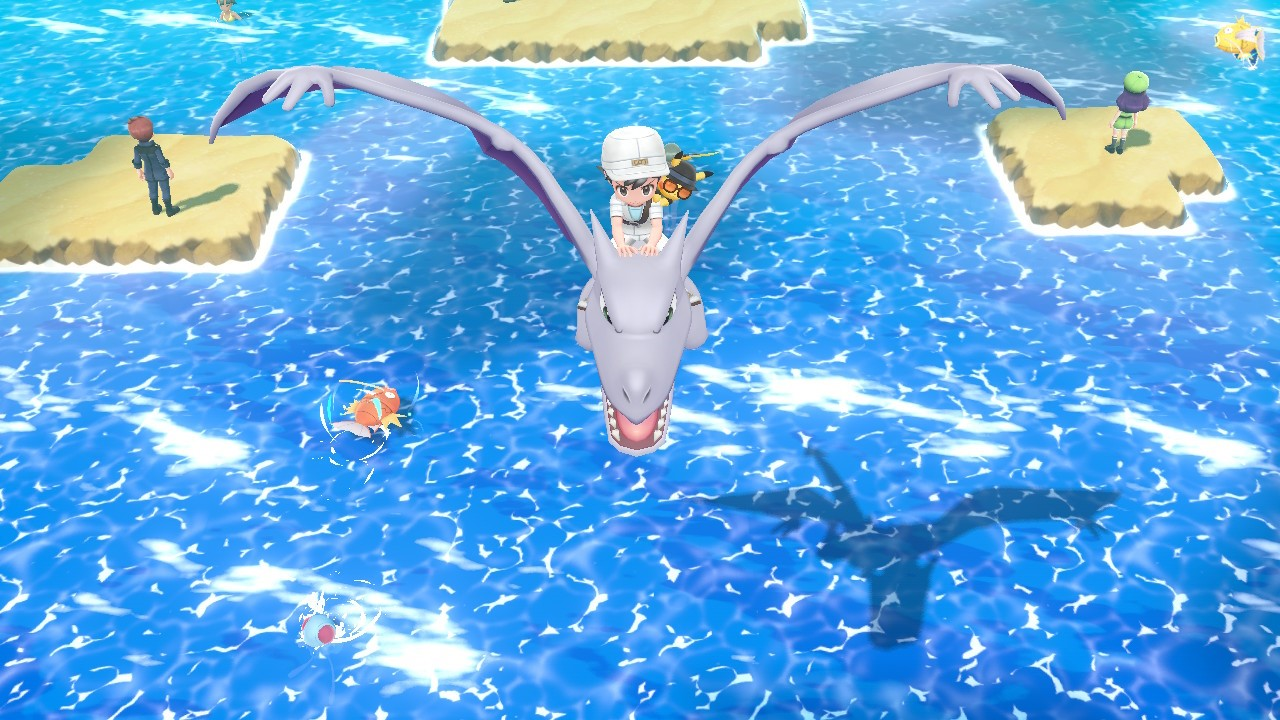Golden: (1212, 14, 1266, 66)
Red: (331, 381, 409, 443)
